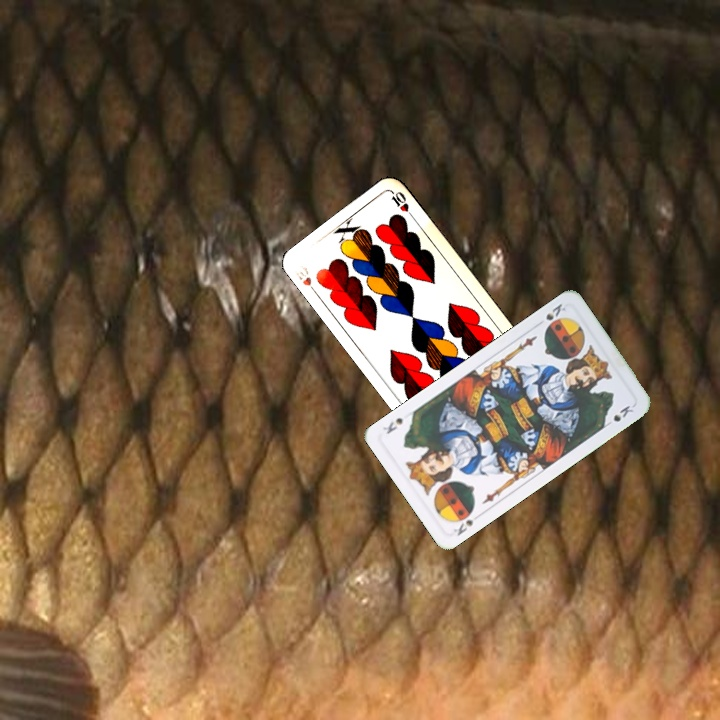H10: (290, 262, 320, 298)
SK: (449, 505, 483, 538), (542, 299, 568, 323)
